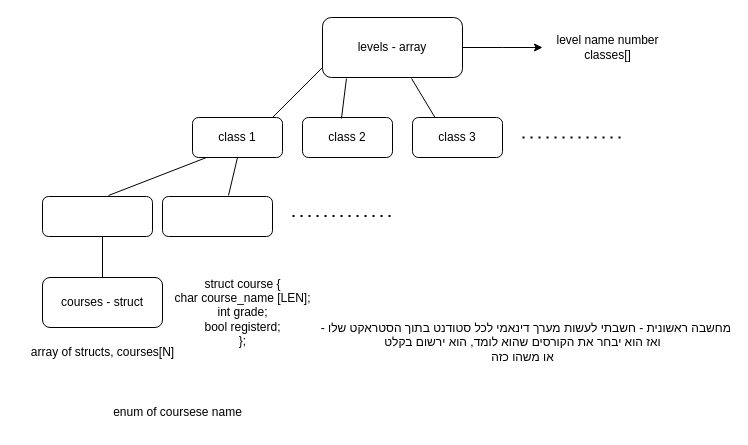
The diagram is 748 pixels wide and 445 high, and some of its shapes have lost their labels. Here are the shapes that lost their labels. From the top down, the centre of each, then its label:
At [97,216]: "stud 1 - (linked-list)".
At [217,216]: "stud 2".
